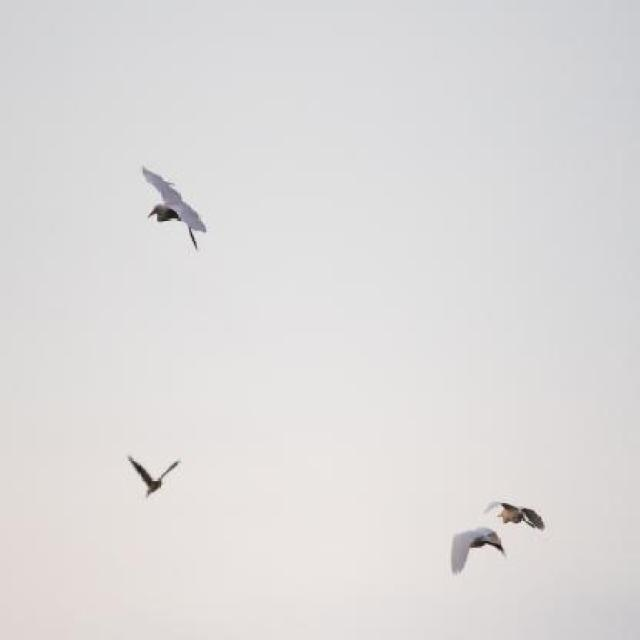bird: (142, 166, 207, 252), (450, 526, 508, 577), (128, 455, 180, 500), (483, 501, 545, 532)
